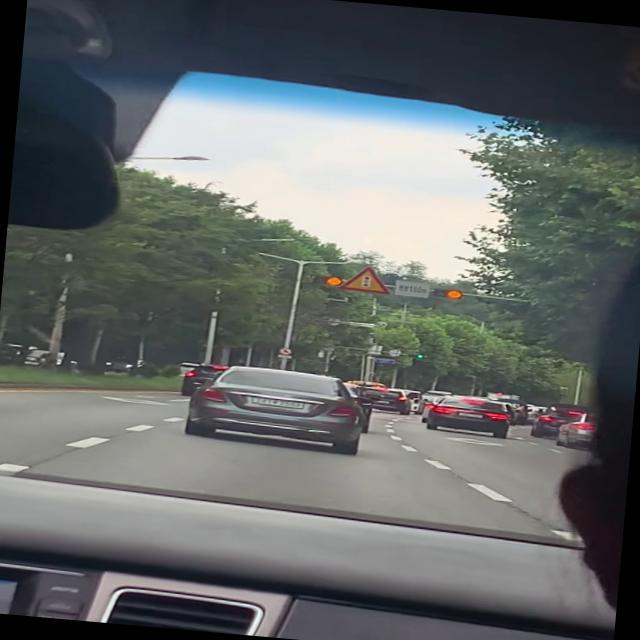yellow_light: (312, 274, 342, 286), (433, 288, 462, 298)
